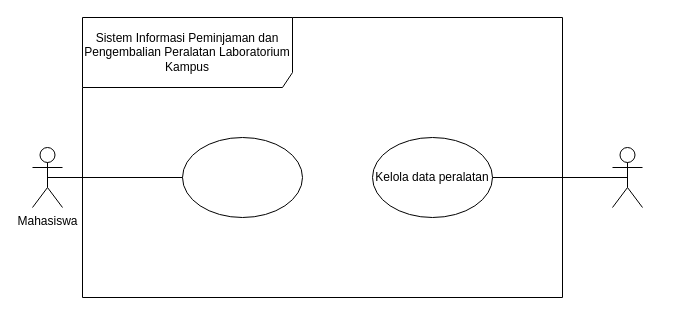
This 690x315 diagram has some shape labels left out. The shapes that lost their labels are listed below. From the top down, each one's box as (x1, y1, x2, y2) in pixels, then its label:
(182, 136, 302, 218): Lihat ketersediaann peralatan
(612, 146, 642, 208): Petugas Laboran
